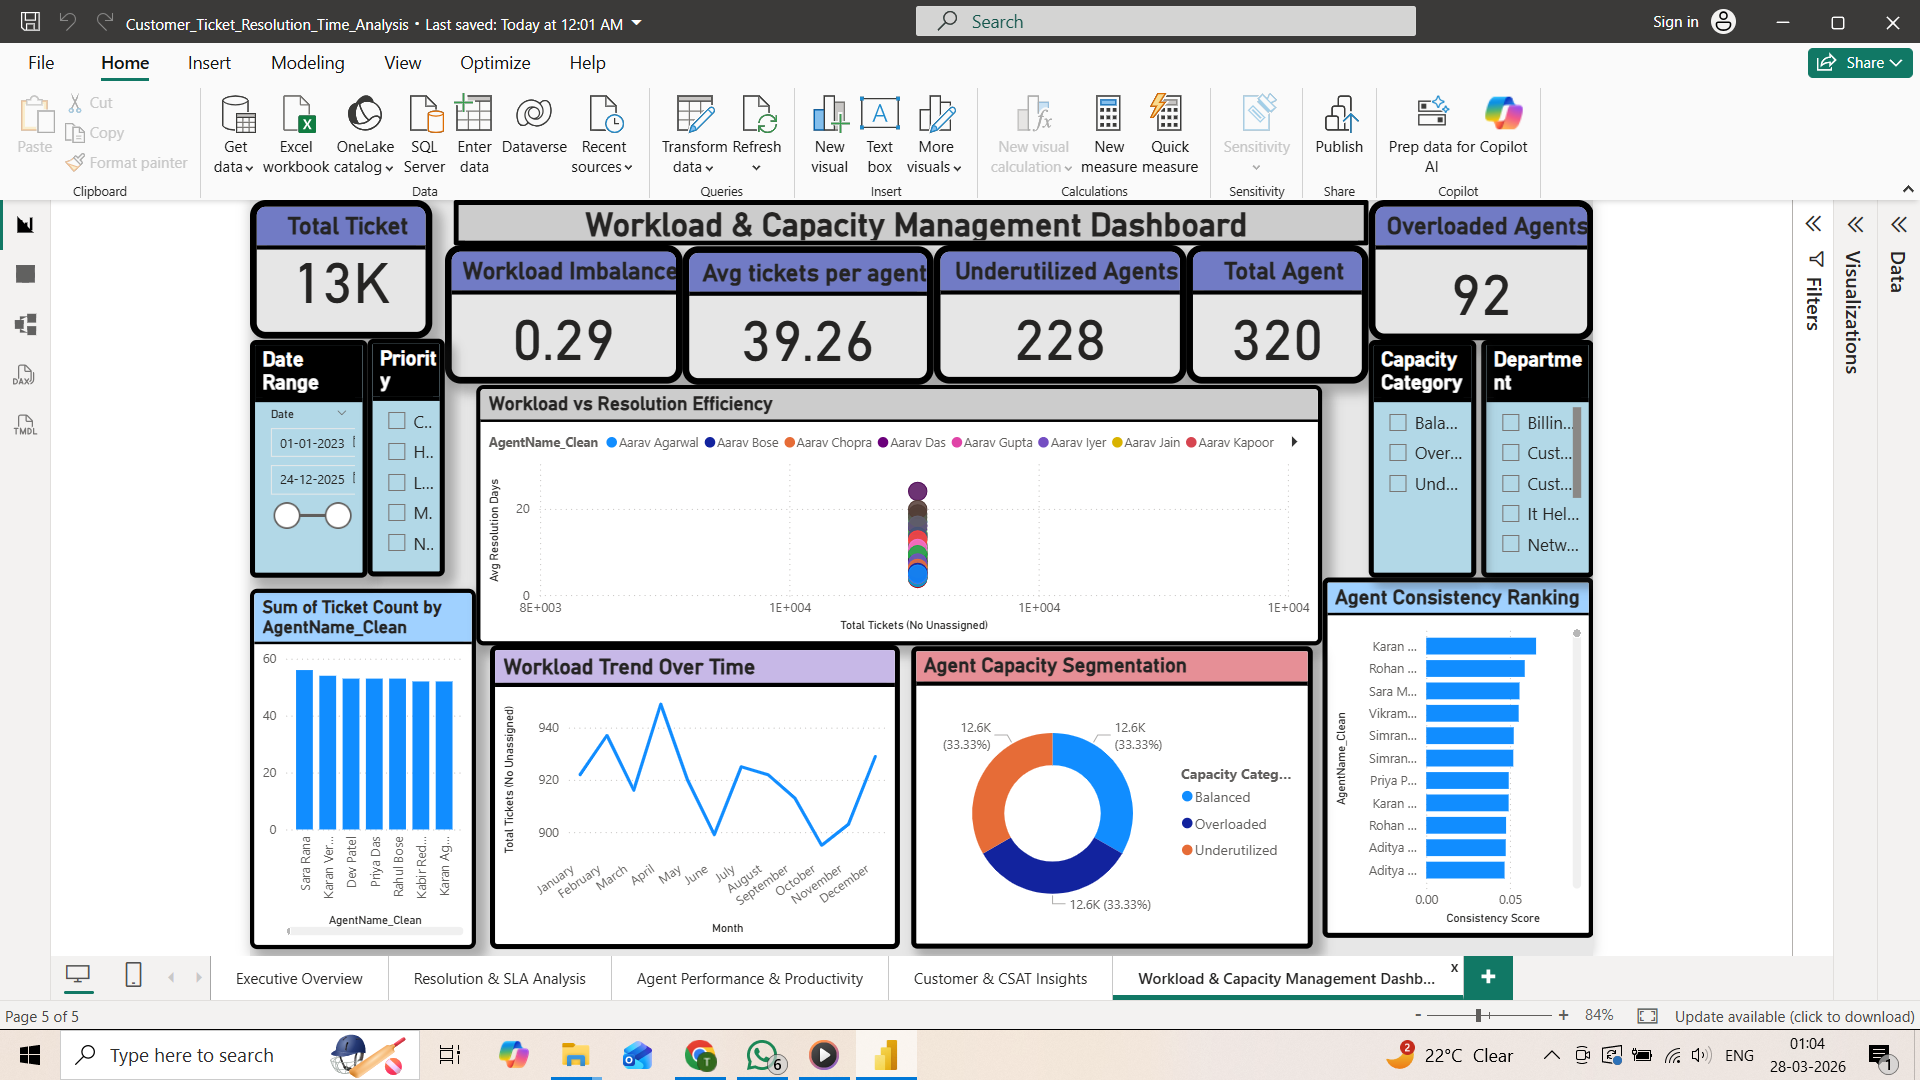

Layout of this report page (visuals, bound fields, positions):
{"tool":"powerbi","page":{"name":"Workload & Capacity Management Dashboard","canvas":[1280,720],"ordinal":4},"visuals":[{"type":"card","title":"Total Ticket","fields":{"Values":["all_measures.Total Tickets"]},"box":[0,0,173.8,132.1],"z":0},{"type":"card","title":"Workload Imbalance","fields":{"Values":["all_measures.Workload Imbalance %"]},"box":[185.7,42.9,226.2,132.1],"z":1000},{"type":"card","title":"Avg tickets per agent","fields":{"Values":["all_measures.Avg Tickets per Agents"]},"box":[411.9,44,239.3,132.1],"z":2000},{"type":"card","title":"Underutilized Agents","fields":{"Values":["all_measures.Underutilized Agentss"]},"box":[651.2,42.9,240.5,132.1],"z":3000},{"type":"card","title":"Total Agent","fields":{"Values":["all_measures.Total Agents (Clean)"]},"box":[891.7,42.9,173.8,132.1],"z":4000},{"type":"card","title":"Overloaded Agents","fields":{"Values":["all_measures.Overloaded Agentss (Clean)"]},"box":[1065.5,0,214.3,133.3],"z":5000},{"type":"columnChart","fields":{"Category":["Agent Summary.AgentName_Clean"],"Y":["Sum(Agent Summary.Ticket Count)"]},"box":[0,370.2,215.5,342.9],"z":6000},{"type":"scatterChart","title":"Workload vs Resolution Efficiency","fields":{"X":["all_measures.Total Tickets (No Unassigned)"],"Y":["all_measures.Avg Resolution Days"],"Series":["tickets.AgentName_Clean"],"Size":["all_measures.Total Tickets (No Unassigned)"],"Category":["tickets.AgentName_Clean"]},"box":[215.5,176.2,806,247.6],"z":7000},{"type":"clusteredBarChart","title":"Agent Consistency Ranking","fields":{"Category":["tickets.AgentName_Clean"],"Y":["all_measures.Consistency Score"]},"box":[1021.4,359.5,258.3,342.9],"z":8000},{"type":"donutChart","title":"Agent Capacity Segmentation","fields":{"Category":["Agent Summary.Capacity Category"],"Y":["CountNonNull(tickets.AgentName_Clean)"]},"box":[629.8,425,382.1,288.1],"z":9000},{"type":"slicer","title":"Date Range","fields":{"Values":["DateTable.Date"]},"box":[0,133.3,111.9,226.2],"z":10000},{"type":"slicer","title":"Priority","fields":{"Values":["tickets.priority"]},"box":[111.9,132.1,73.8,226.2],"z":11000},{"type":"slicer","title":"Department","fields":{"Values":["departments.department_name"]},"box":[1172.6,133.3,107.1,226.2],"z":12000},{"type":"slicer","title":"Capacity Category","fields":{"Values":["Agent Summary.Capacity Category"]},"box":[1065.5,133.3,102.4,226.2],"z":13000},{"type":"textbox","title":"Workload & Capacity Management Dashboard","box":[194,0,871.4,42.9],"z":14000},{"type":"lineChart","title":"Workload Trend Over Time","fields":{"Category":["DateTable.Date.Variation.Date Hierarchy.Month"],"Y":["all_measures.Total Tickets (No Unassigned)"]},"box":[228.6,423.8,390.5,289.3],"z":15000}]}

Visuals, with their boxes on the page's 1280x720 design canvas (x1, y1, x2, y2). These are canvas units, not pixel positions in the 1920x1080 screenshot, which may show the page scaled, cropped or inside an application window:
"Total Ticket" card: bbox=(0, 0, 174, 132)
"Workload Imbalance" card: bbox=(186, 43, 412, 175)
"Avg tickets per agent" card: bbox=(412, 44, 651, 176)
"Underutilized Agents" card: bbox=(651, 43, 892, 175)
"Total Agent" card: bbox=(892, 43, 1066, 175)
"Overloaded Agents" card: bbox=(1066, 0, 1280, 133)
columnChart - Agent Summary.AgentName_Clean x Sum(Agent Summary.Ticket Count): bbox=(0, 370, 216, 713)
"Workload vs Resolution Efficiency" scatterChart: bbox=(216, 176, 1022, 424)
"Agent Consistency Ranking" clusteredBarChart: bbox=(1021, 360, 1280, 702)
"Agent Capacity Segmentation" donutChart: bbox=(630, 425, 1012, 713)
"Date Range" slicer: bbox=(0, 133, 112, 360)
"Priority" slicer: bbox=(112, 132, 186, 358)
"Department" slicer: bbox=(1173, 133, 1280, 360)
"Capacity Category" slicer: bbox=(1066, 133, 1168, 360)
"Workload & Capacity Management Dashboard" textbox: bbox=(194, 0, 1065, 43)
"Workload Trend Over Time" lineChart: bbox=(229, 424, 619, 713)
